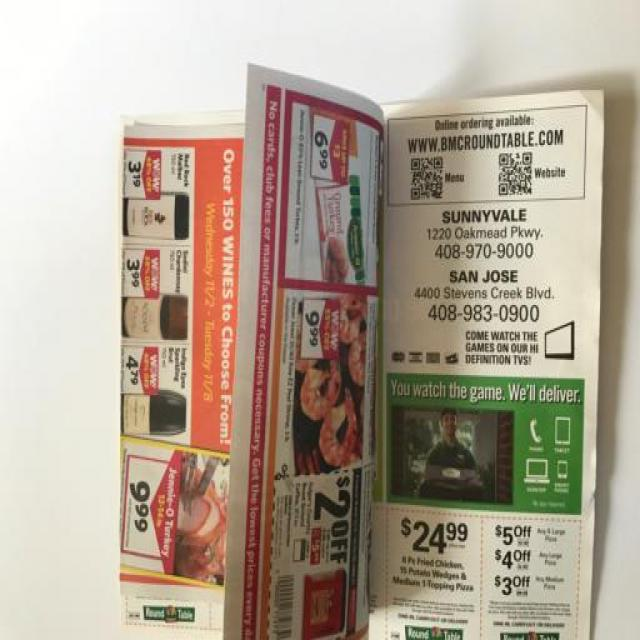paper: (101, 42, 640, 640)
